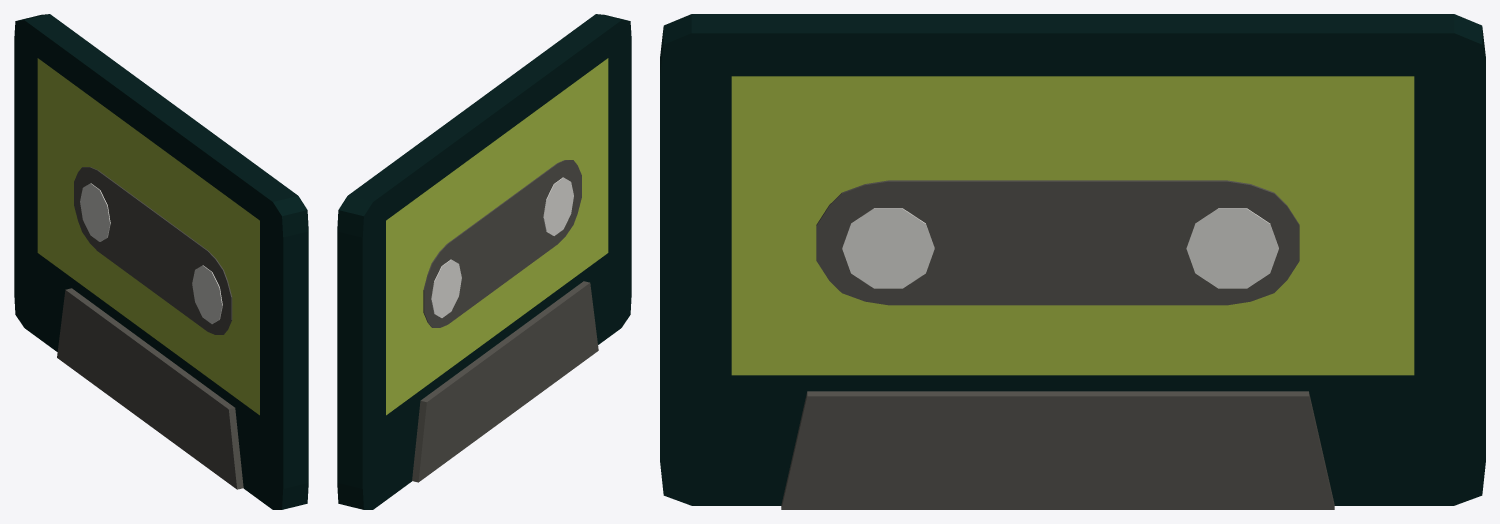
Rendered from cassette-green.fbx.
3 views of the same model, side by side, from view 1: azimuth 30°, elevation 25°; view 2: azimuth 150°, elevation 25°; view 3: azimuth 270°, elevation 25° (orthographic). The views are drawn at different scales.
Parts seen in each view (by area): view 1: cassette.003; view 2: cassette.003; view 3: cassette.003.
Part boxes in pixels (box(x1,y1,x2,y2)): cassette.003: box(14, 14, 308, 509); cassette.003: box(337, 14, 631, 509); cassette.003: box(660, 14, 1485, 509).
Bounding box in the file's own units: 74.85 × 571 × 905.
